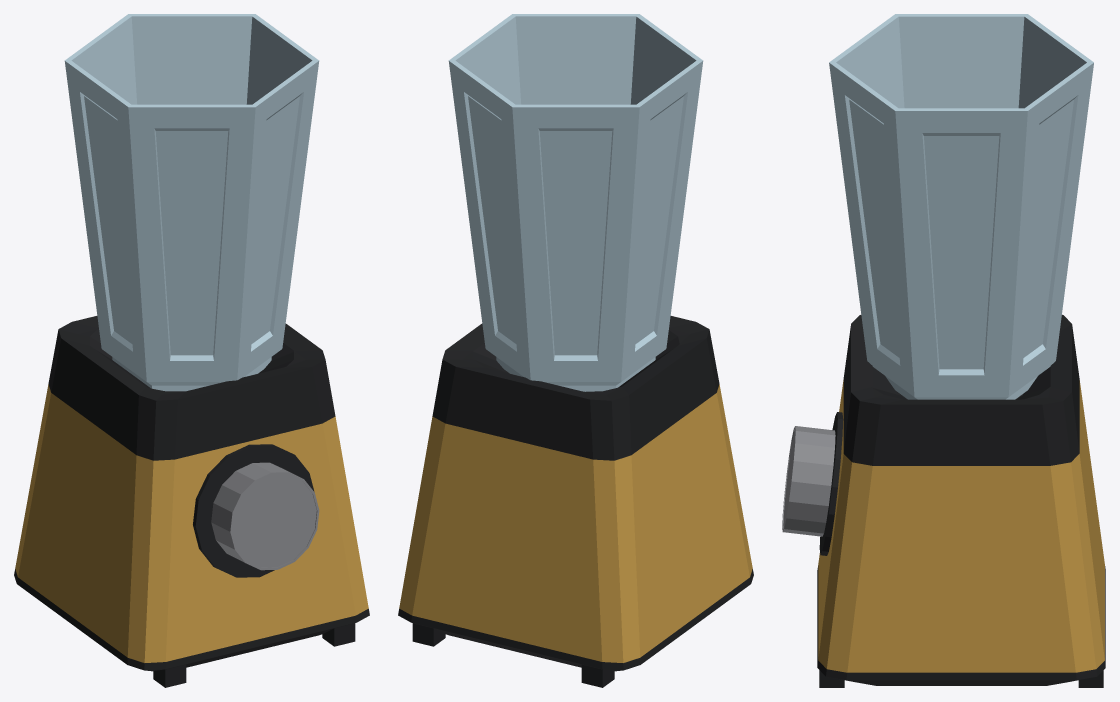
The model's file is blendermodern_01_D.gltf.
3 views of the same model, side by side, from view 1: azimuth 30°, elevation 25°; view 2: azimuth 150°, elevation 25°; view 3: azimuth 270°, elevation 25° (orthographic). The views are drawn at different scales.
Parts seen in each view (by area): view 1: blendermodern_01_D, capacitymodern_01_D, Cylinder.091Switchforblendermodern_01_D; view 2: blendermodern_01_D, capacitymodern_01_D; view 3: blendermodern_01_D, capacitymodern_01_D, Cylinder.091Switchforblendermodern_01_D.
Part boxes in pixels (<box>): blendermodern_01_D: <box>14,316,369,687</box>; capacitymodern_01_D: <box>64,14,319,391</box>; Cylinder.091Switchforblendermodern_01_D: <box>211,462,319,570</box>; blendermodern_01_D: <box>398,316,753,687</box>; capacitymodern_01_D: <box>448,14,703,391</box>; blendermodern_01_D: <box>817,314,1105,687</box>; capacitymodern_01_D: <box>829,14,1093,399</box>; Cylinder.091Switchforblendermodern_01_D: <box>782,426,835,536</box>.
Bounding box in the file's own units: 0.1787 × 0.3955 × 0.2005.
Materials: 1 (1 with a texture image).
